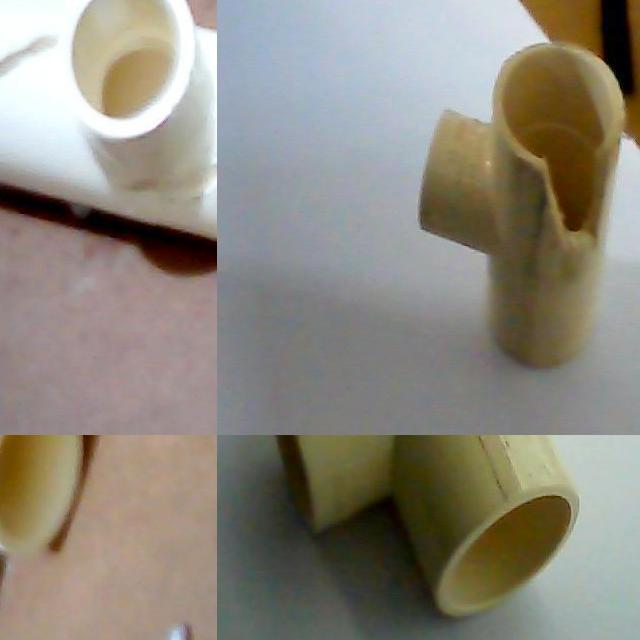Defective: (534, 135, 612, 253), (156, 115, 217, 257), (0, 15, 50, 129)
T Joint: (417, 41, 627, 372), (275, 435, 580, 621)
